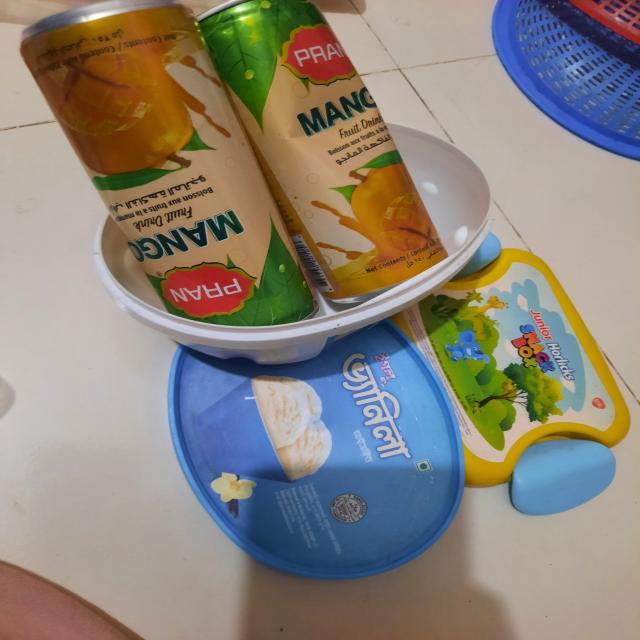Plastics: (23, 294, 624, 576)
can: (26, 0, 429, 320)
